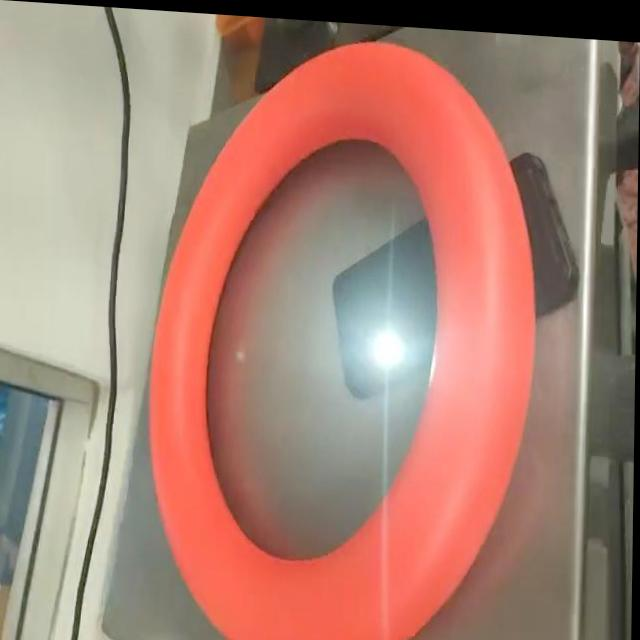note: (147, 25, 542, 640)
